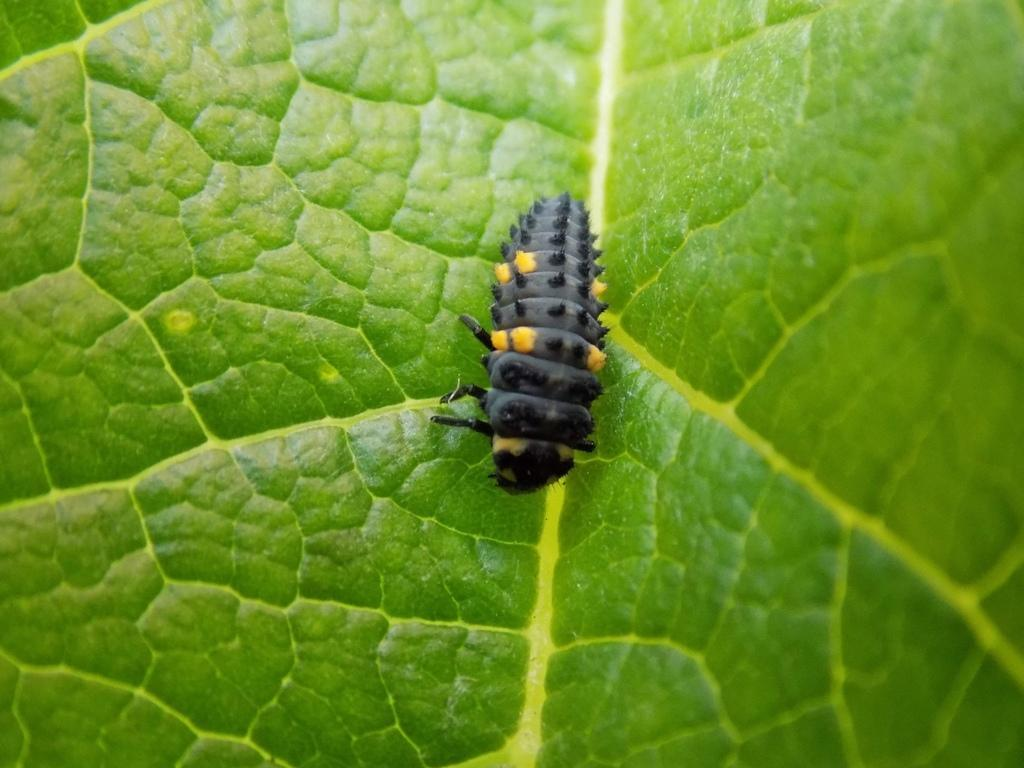ladybug: (429, 187, 617, 501)
